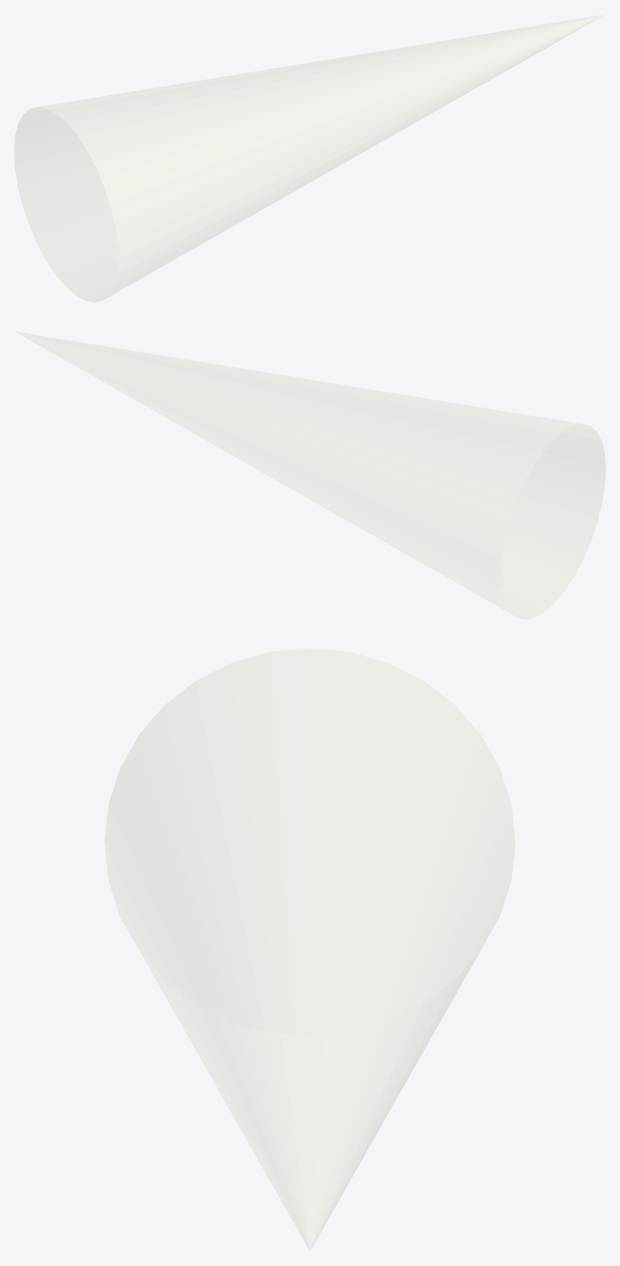
File: light_cone.obj
3 views of the same model, one above another, from view 1: azimuth 30°, elevation 25°; view 2: azimuth 150°, elevation 25°; view 3: azimuth 270°, elevation 25° (orthographic). The views are drawn at different scales.
Parts seen in each view (by area): view 1: Cone; view 2: Cone; view 3: Cone.
Boxes of the visible parts, x1=… form: Cone: x1=14, y1=15, x2=602, y2=301; Cone: x1=17, y1=332, x2=605, y2=618; Cone: x1=105, y1=649, x2=514, y2=1249.
Size of the model in its own units: 26.53 by 8.55 by 8.6.
Materials: 1 (1 with a texture image).
